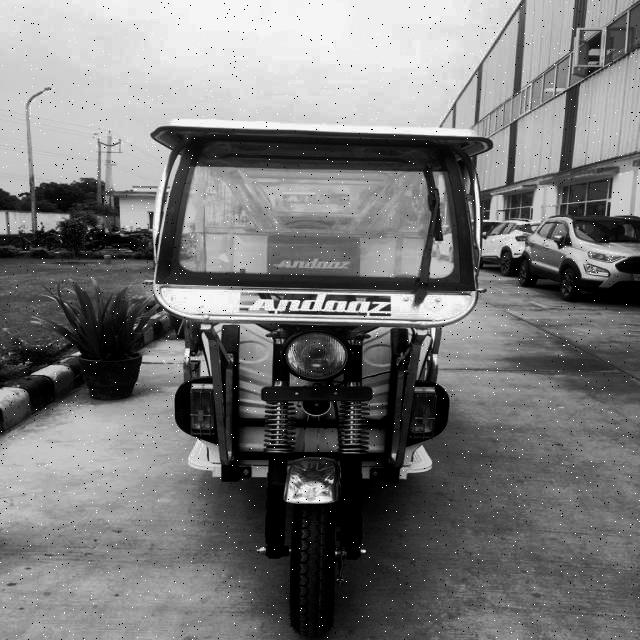Toto: (141, 116, 508, 640)
